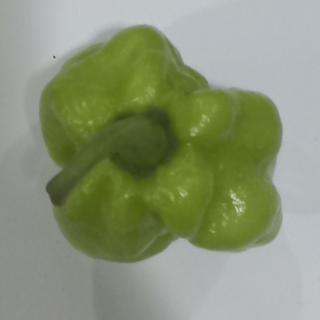Grade-B: (36, 19, 290, 262)
